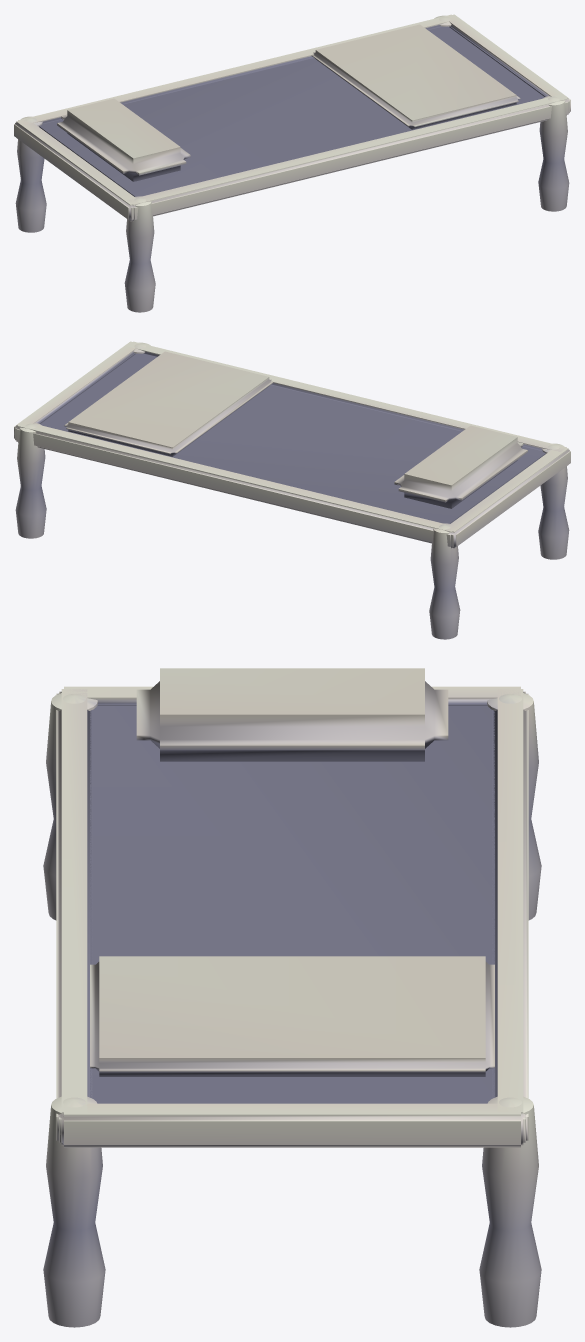
The model's file is charpoy.glb.
3 renders of one model, top to bottom at view 1: azimuth 30°, elevation 25°; view 2: azimuth 150°, elevation 25°; view 3: azimuth 270°, elevation 25°, orthographic. The views are drawn at different scales.
Parts seen in each view (by area): view 1: body; view 2: body; view 3: body.
Part boxes in pixels (x1,y1,x2,y2): body: [14, 14, 570, 312]; body: [14, 341, 570, 639]; body: [43, 668, 541, 1327].
Bounding box in the file's own units: 1.97 × 0.55 × 0.96.
